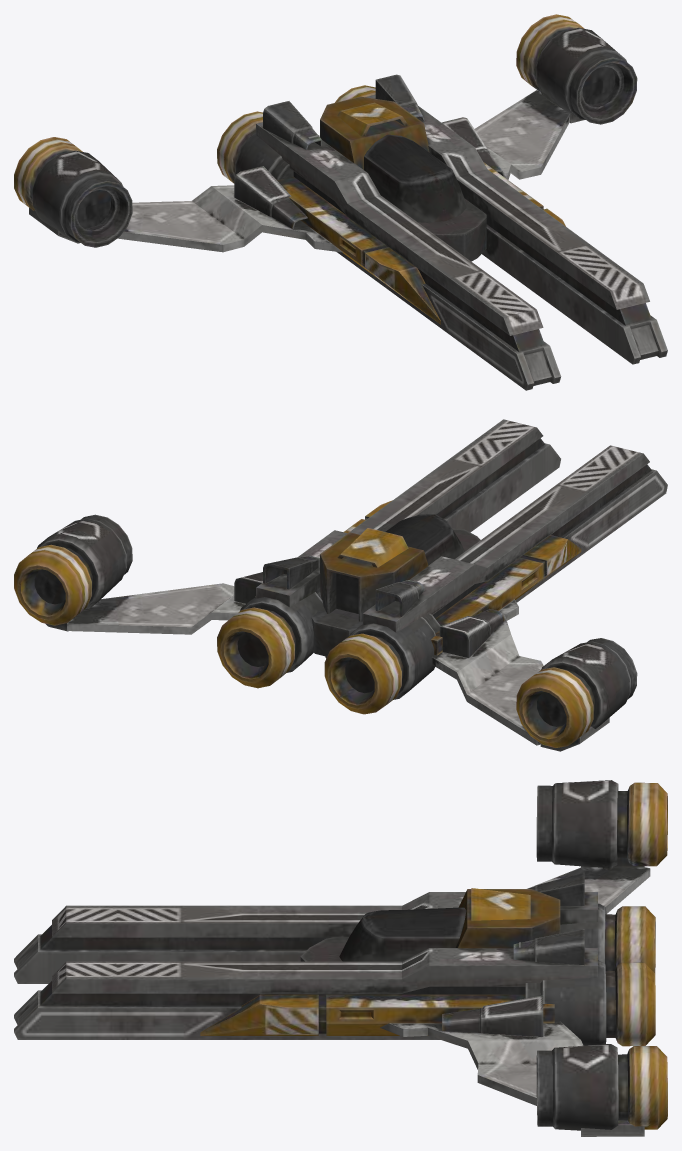
The model's file is ship_Executioner.glb.
3 renders of one model, top to bottom at view 1: azimuth 30°, elevation 25°; view 2: azimuth 150°, elevation 25°; view 3: azimuth 270°, elevation 25°, orthographic. The views are drawn at different scales.
Visible parts, largest first — view 1: Executioner; view 2: Executioner; view 3: Executioner.
Part boxes in pixels (box(x1,y1,x2,y2)): Executioner: box(14, 14, 667, 390); Executioner: box(14, 419, 667, 751); Executioner: box(14, 780, 667, 1136).
Size of the model in its own units: 10.02 by 1.85 by 9.2.
1 material, 1 textured.
